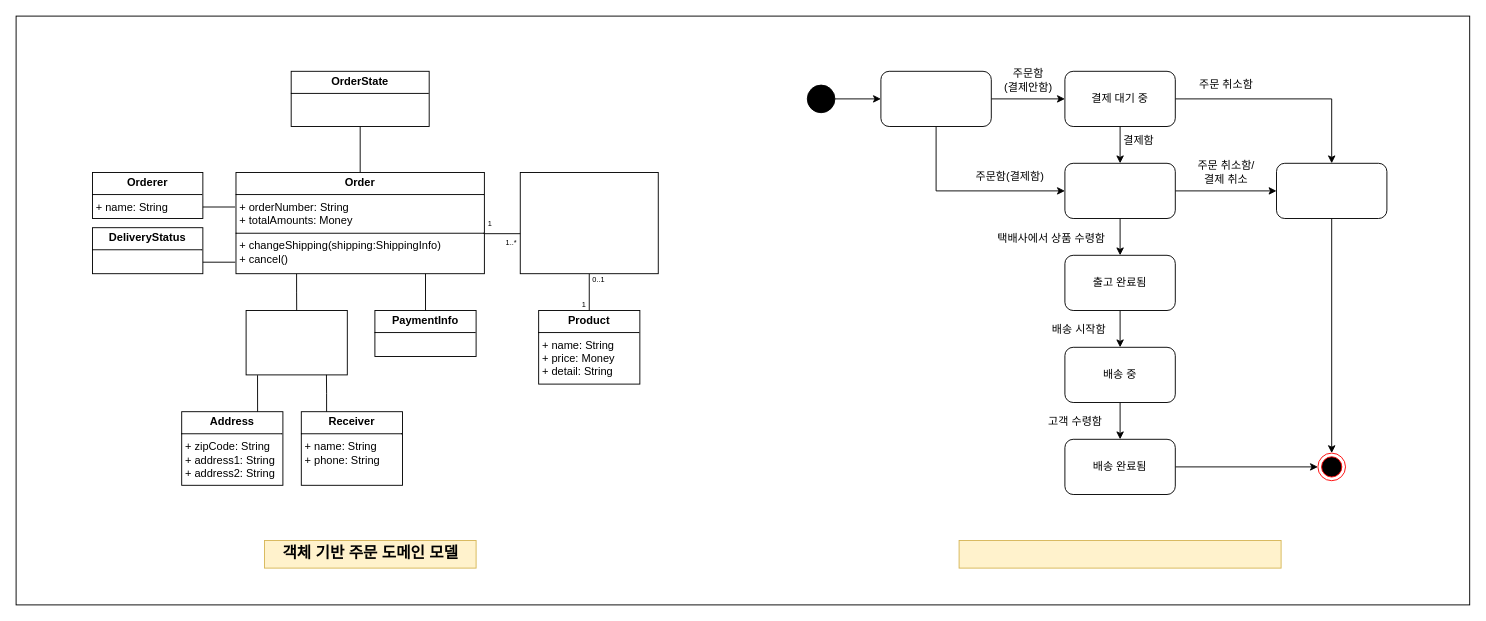
The diagram is 1486 pixels wide and 621 high, and some of its shapes have lost their labels. Here are the shapes that lost their labels. From the top down, the centre of each, then its label:
the point at 935,98: 주문 전
the point at 1119,190: 상품 준비 중
the point at 1331,190: 주문 취소됨
the point at 588,223: OrderLine + price: Money + quantity: Int + amounts(): Money
the point at 296,342: ShippingInfo + address: Address + message: String
the point at 1119,554: 상태 다이어그램을 이용한 주문 상태 모델링
